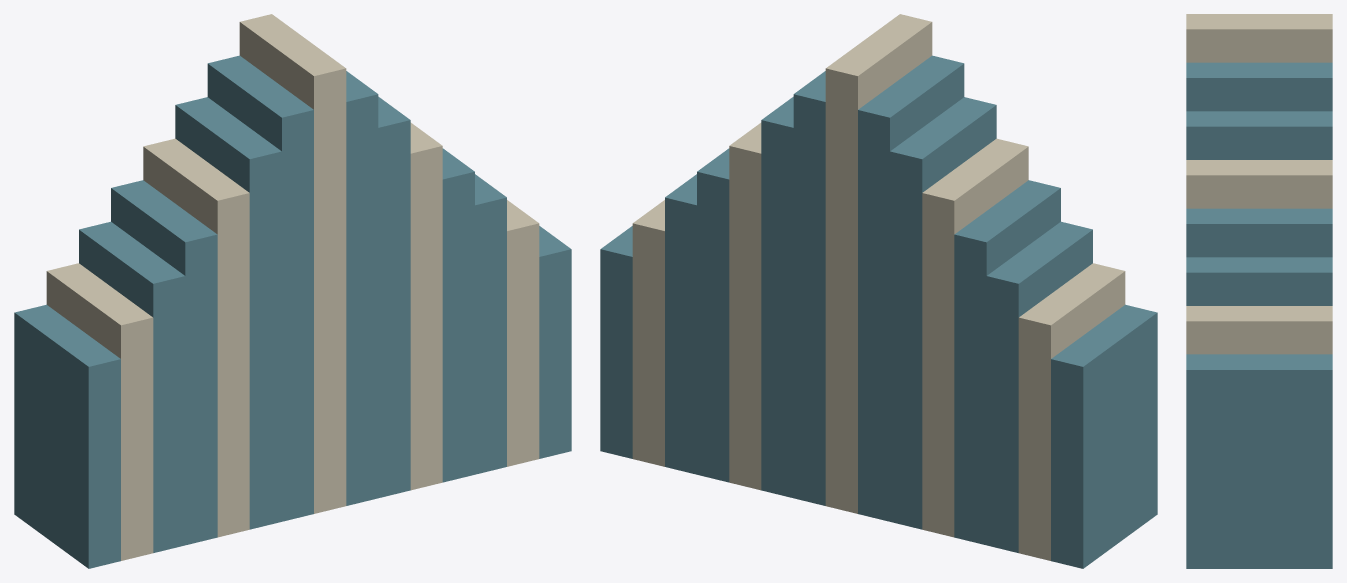
Rendered from ocean-12.glb.
The picture shows the model from 3 angles, left to right: view 1: azimuth 30°, elevation 25°; view 2: azimuth 150°, elevation 25°; view 3: azimuth 270°, elevation 25°; orthographic projection.
Visible parts, largest first — view 1: Shell display; view 2: Shell display; view 3: Shell display.
Part boxes in pixels (box(x1,y1,x2,y2)): Shell display: box(14, 14, 571, 568); Shell display: box(600, 14, 1157, 568); Shell display: box(1186, 14, 1332, 568).
Size of the model in its own units: 1.2 by 1.04 by 0.32.
